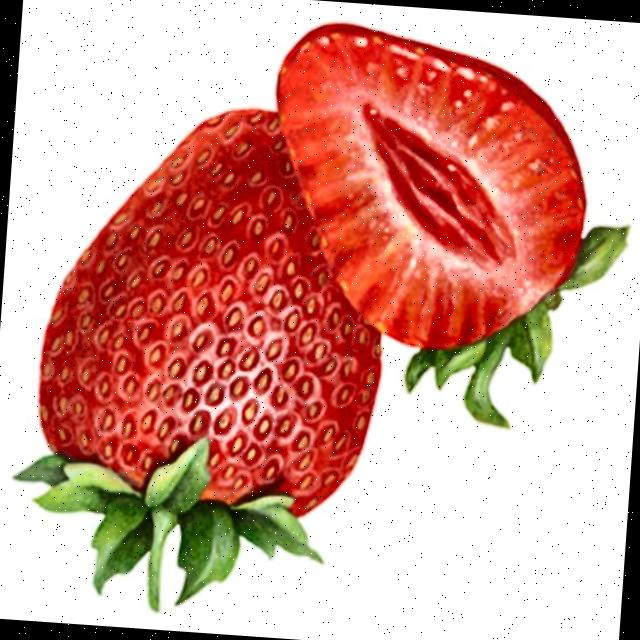strawberry: (15, 109, 379, 608), (276, 23, 625, 426)
